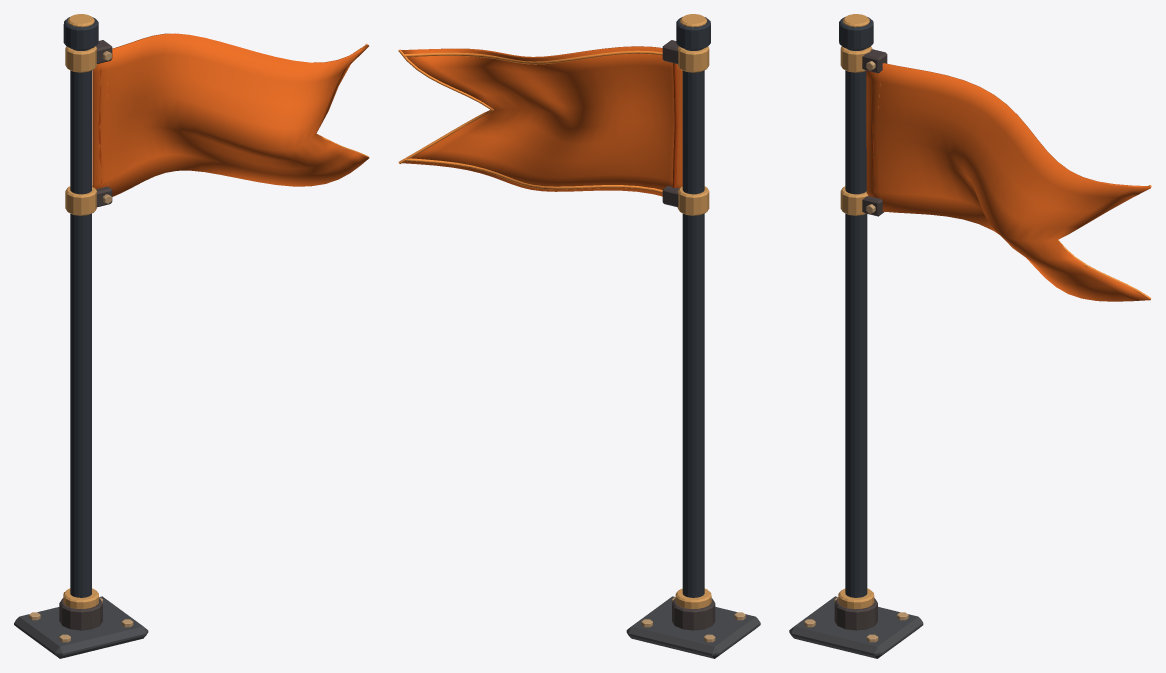
The model's file is wsc-prop-028-course-flag.glb.
3 renders of one model, left to right at view 1: azimuth 30°, elevation 25°; view 2: azimuth 150°, elevation 25°; view 3: azimuth 330°, elevation 25°, orthographic.
Parts seen in each view (by area): view 1: cloth, dark, foot, brass, iron; view 2: cloth, dark, foot, hem, brass, iron, stripe; view 3: cloth, dark, foot, brass, iron.
Part boxes in pixels (bbox=[...]): cloth: bbox=[92, 33, 369, 196]; dark: bbox=[63, 17, 98, 597]; foot: bbox=[14, 596, 148, 658]; brass: bbox=[63, 14, 98, 609]; iron: bbox=[59, 40, 112, 630]; cloth: bbox=[401, 46, 682, 196]; dark: bbox=[676, 17, 710, 597]; foot: bbox=[626, 596, 760, 658]; hem: bbox=[398, 49, 662, 193]; brass: bbox=[675, 14, 711, 609]; iron: bbox=[662, 40, 715, 630]; stripe: bbox=[672, 63, 678, 188]; cloth: bbox=[866, 63, 1150, 301]; dark: bbox=[839, 17, 873, 597]; foot: bbox=[789, 596, 923, 658]; brass: bbox=[838, 14, 874, 609]; iron: bbox=[834, 49, 887, 630].
Bounding box in the file's own units: 1.38 × 2.4 × 0.3577.
